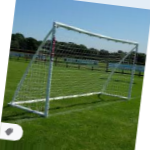goals: (11, 21, 140, 116)
